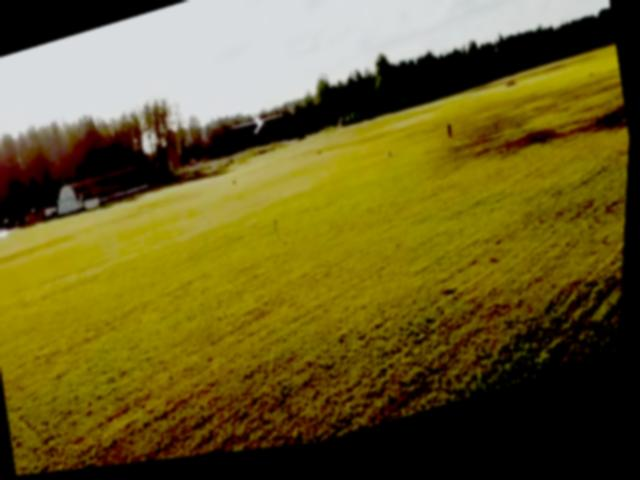iha: (233, 114, 285, 148)
